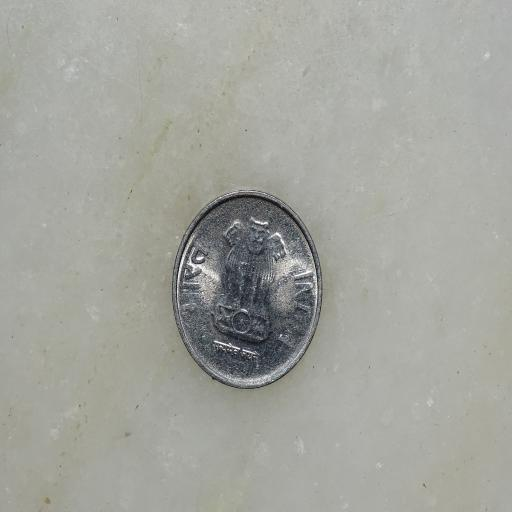rupee2: (169, 188, 324, 389)
